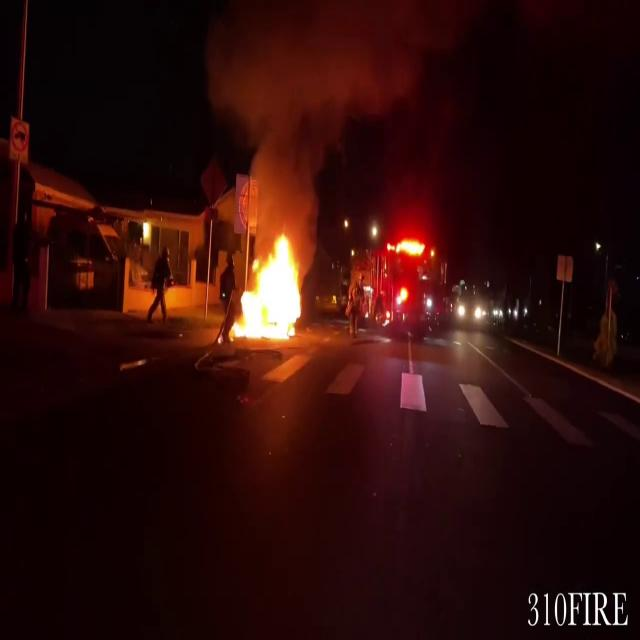Fire: (228, 228, 308, 344)
Smoke: (204, 1, 398, 229)
